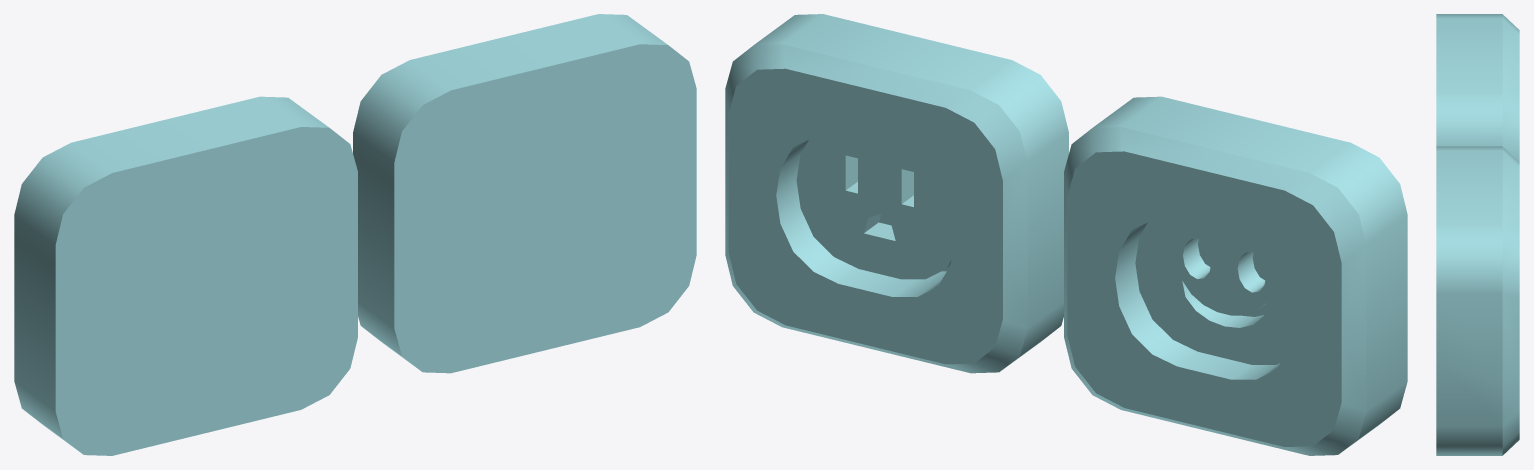
The model's file is chambre_prises.fbx.
3 renders of one model, left to right at view 1: azimuth 30°, elevation 25°; view 2: azimuth 150°, elevation 25°; view 3: azimuth 270°, elevation 25°, orthographic. The views are drawn at different scales.
Parts seen in each view (by area): view 1: msh_cha_prise_sourir, msh_cha_prise_normal; view 2: msh_cha_prise_sourir, msh_cha_prise_normal; view 3: msh_cha_prise_normal, msh_cha_prise_sourir.
Boxes of the visible parts, left/top/right/bottom form: msh_cha_prise_sourir: left=14, top=96, right=357, bottom=455; msh_cha_prise_normal: left=353, top=14, right=696, bottom=373; msh_cha_prise_sourir: left=1064, top=96, right=1407, bottom=455; msh_cha_prise_normal: left=725, top=14, right=1068, bottom=373; msh_cha_prise_normal: left=1436, top=146, right=1519, bottom=455; msh_cha_prise_sourir: left=1436, top=14, right=1519, bottom=161.
Bounding box in the file's own units: 24.28 × 10.24 × 3.41.
